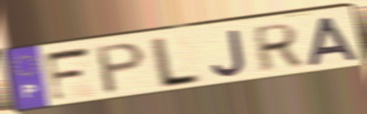A: (306, 14, 362, 69)
F: (42, 44, 95, 105)
J: (209, 28, 248, 78)
L: (151, 34, 203, 91)
P: (94, 40, 148, 97)
R: (252, 21, 304, 75)
